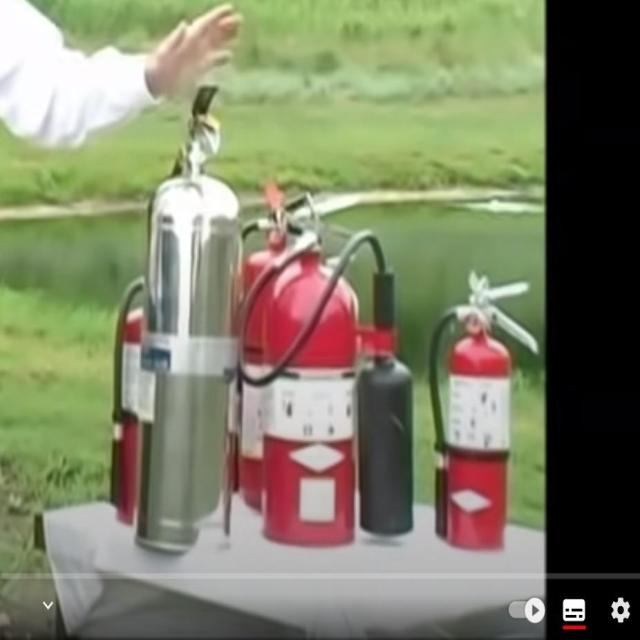fire_extinguisher: (234, 184, 416, 555), (125, 83, 243, 561), (426, 272, 543, 551), (107, 256, 203, 525)
